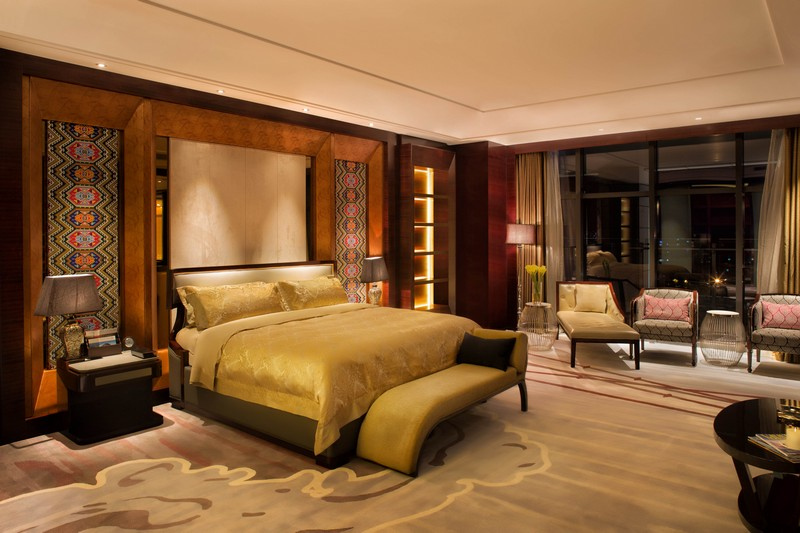bed: (166, 257, 534, 480)
chair: (554, 275, 641, 377), (633, 280, 703, 370), (745, 290, 800, 376)
lamp: (34, 273, 106, 363), (503, 217, 536, 340), (354, 252, 391, 313)
stool: (711, 385, 798, 532), (58, 342, 165, 442)
